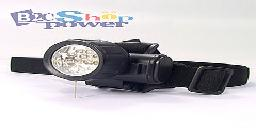LED: (45, 36, 107, 84)
